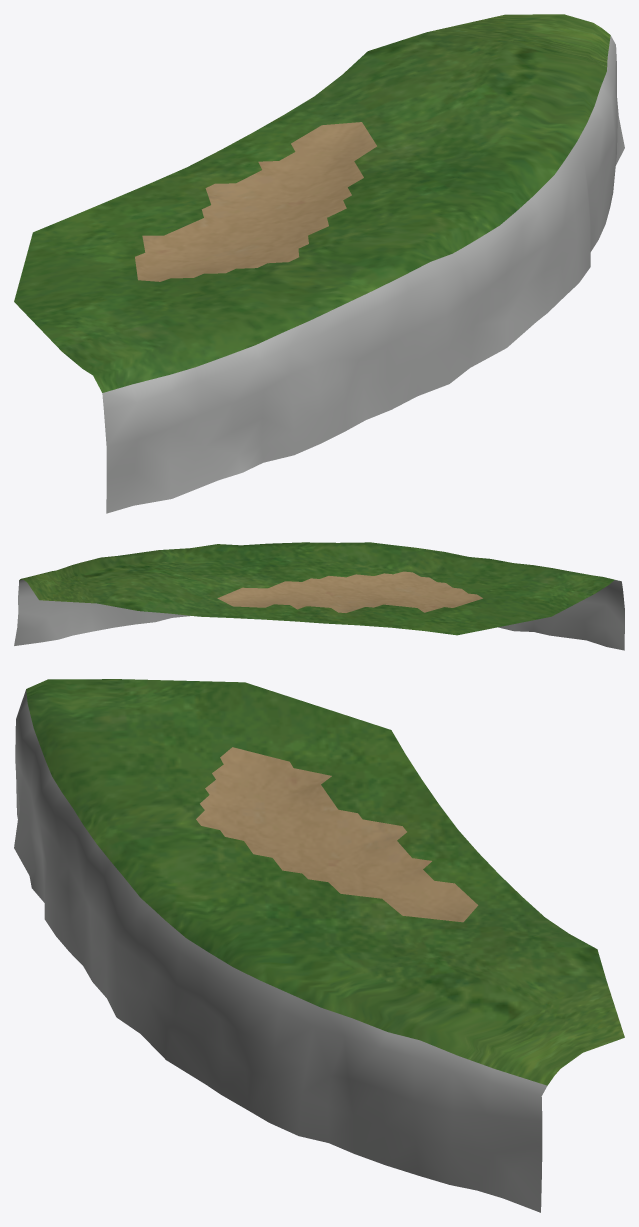
File: SM_ENV_KNFRST_Cliff_J_COL.FBX
The picture shows the model from 3 angles, top to bottom: view 1: azimuth 30°, elevation 25°; view 2: azimuth 150°, elevation 25°; view 3: azimuth 270°, elevation 25°; orthographic projection. The views are drawn at different scales.
Visible parts, largest first — view 1: SM_ENV_KNFRST_Cliff_J_COL; view 2: SM_ENV_KNFRST_Cliff_J_COL; view 3: SM_ENV_KNFRST_Cliff_J_COL.
Boxes of the visible parts, x1,y1,x2,y2 form: SM_ENV_KNFRST_Cliff_J_COL: (14, 14, 624, 513); SM_ENV_KNFRST_Cliff_J_COL: (14, 542, 624, 650); SM_ENV_KNFRST_Cliff_J_COL: (14, 679, 624, 1212).
Size of the model in its own units: 2690 by 474 by 1742.
